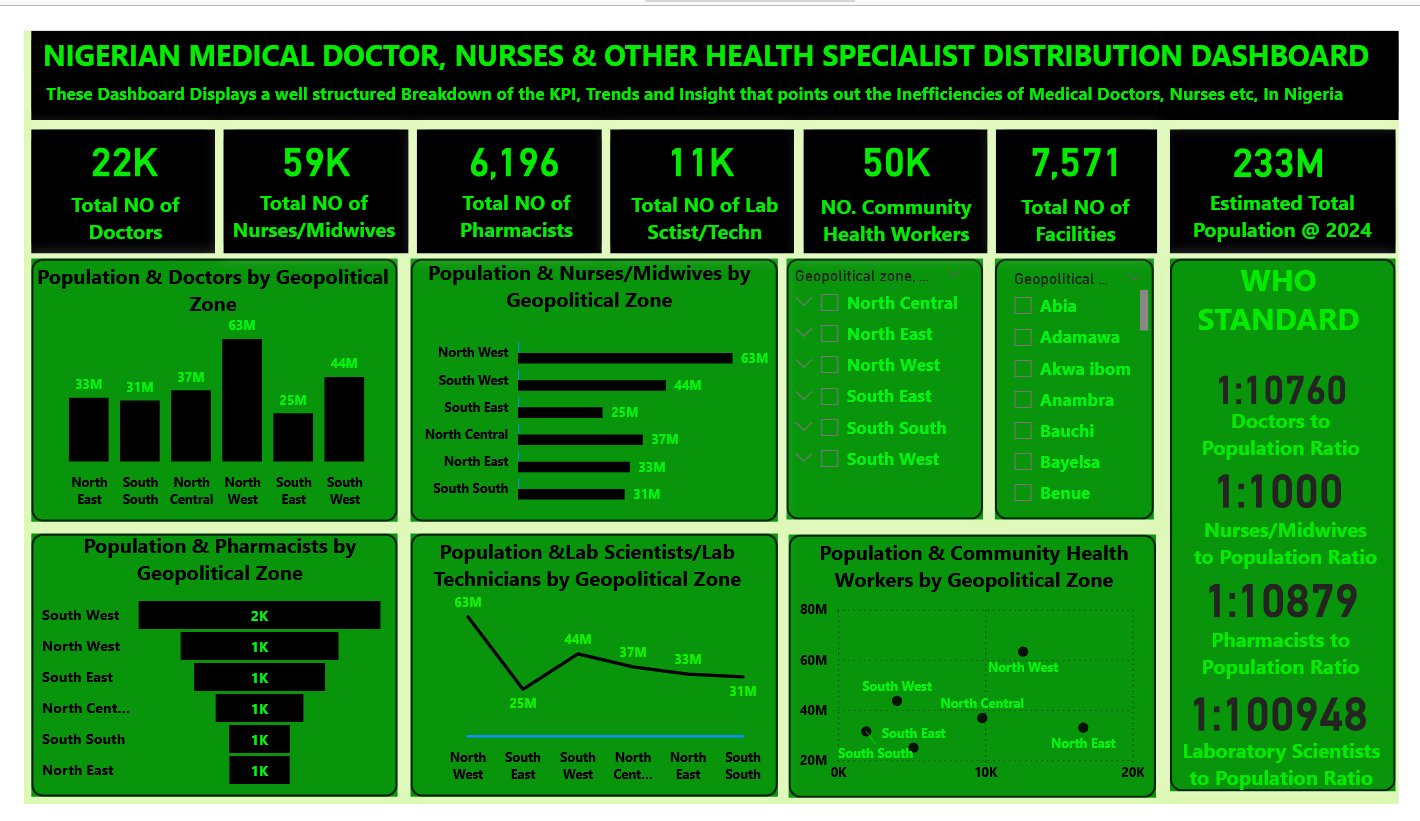

Layout of this report page (visuals, bound fields, positions):
{"tool":"powerbi","page":{"name":"Page 1","canvas":[1280,720],"ordinal":0},"visuals":[{"type":"shape","box":[710.3,211.8,182.5,242.7],"z":0},{"type":"shape","box":[1066.7,91.7,210,115],"z":1000},{"type":"shape","box":[6.7,0,1273.3,83.3],"z":2000},{"type":"shape","box":[6.7,91.7,171.7,115],"z":3000},{"type":"shape","box":[6.7,211.7,341.7,245],"z":4000},{"type":"shape","box":[6.7,468.3,341.7,245],"z":5000},{"type":"shape","box":[360,211.7,341.7,245],"z":6000},{"type":"shape","box":[712,469.2,342.1,244.4],"z":7000},{"type":"shape","box":[360,468.3,341.7,245],"z":8000},{"type":"shape","box":[904.2,211.8,148.3,242.7],"z":9000},{"type":"shape","box":[1066.7,211.7,210,496.7],"z":10000},{"type":"columnChart","fields":{"Category":["Cleaned, Formated, & Analyzed.Geopoliticalzone"],"Y":["Sum(Cleaned, Formated, & Analyzed.Doctors)","Sum(Cleaned, Formated, & Analyzed.Total Population @ 2024)"]},"box":[11.7,248.3,330,203.3],"z":11000},{"type":"clusteredBarChart","fields":{"Category":["Cleaned, Formated, & Analyzed.Geopoliticalzone"],"Y":["Sum(Cleaned, Formated, & Analyzed.Nurses/Midwives)","Sum(Cleaned, Formated, & Analyzed.Total Population @ 2024)"]},"box":[366.6,267.3,332.2,184.3],"z":12000},{"type":"funnel","fields":{"Category":["Cleaned, Formated, & Analyzed.Geopoliticalzone"],"Y":["Sum(Cleaned, Formated, & Analyzed.Pharmacists)"]},"box":[12.2,522.5,330.1,186.3],"z":13000},{"type":"lineChart","fields":{"Category":["Cleaned, Formated, & Analyzed.Geopoliticalzone"],"Y":["Sum(Cleaned, Formated, & Analyzed.Laboratory Scientists/ Lab Technicians)","Sum(Cleaned, Formated, & Analyzed.Total Population @ 2024)"]},"box":[365,501.7,333.3,206.7],"z":14000},{"type":"scatterChart","fields":{"Category":["Cleaned, Formated, & Analyzed.Geopoliticalzone"],"X":["Sum(Cleaned, Formated, & Analyzed.Community Health Workers)"],"Y":["Sum(Cleaned, Formated, & Analyzed.Total Population @ 2024)"]},"box":[716.8,524.6,330.7,184.1],"z":15000},{"type":"card","fields":{"Values":["Min(Cleaned, Formated, & Analyzed.Doctor to Population Ratio)"]},"box":[1084.9,302.8,170,56.7],"z":16000},{"type":"card","fields":{"Values":["Min(Cleaned, Formated, & Analyzed.Nurse to Population Ratio)"]},"box":[1073.5,398.3,187.8,51.8],"z":17000},{"type":"card","fields":{"Values":["Min(Cleaned, Formated, & Analyzed.Pharmacists to Population Ratio)"]},"box":[1071.9,500.3,197.5,51.8],"z":18000},{"type":"card","fields":{"Values":["Min(Cleaned, Formated, & Analyzed.Laboratory Scientists to Population Ratio)"]},"box":[1063.8,600.7,207.3,61.5],"z":19000},{"type":"card","fields":{"Values":["Sum(Cleaned, Formated, & Analyzed.Doctors)"]},"box":[21.7,90.6,143.3,56.7],"z":20000},{"type":"shape","box":[186.4,91.7,171.7,115],"z":21000},{"type":"shape","box":[366.1,91.7,171.7,115],"z":22000},{"type":"shape","box":[545.8,91.7,171.7,115],"z":23000},{"type":"shape","box":[725.6,91.7,171.7,115],"z":24000},{"type":"shape","box":[905,91.7,150,115],"z":25000},{"type":"card","fields":{"Values":["Sum(Cleaned, Formated, & Analyzed.Nurses/Midwives)"]},"box":[200,90.6,143.3,56.7],"z":26000},{"type":"card","fields":{"Values":["Sum(Cleaned, Formated, & Analyzed.Pharmacists)"]},"box":[379.6,91.2,153.1,55.4],"z":27000},{"type":"card","fields":{"Values":["Sum(Cleaned, Formated, & Analyzed.Laboratory Scientists/ Lab Technicians)"]},"box":[558.3,90.6,143.3,56.7],"z":28000},{"type":"card","fields":{"Values":["Sum(Cleaned, Formated, & Analyzed.Community Health Workers)"]},"box":[740,90.6,143.3,56.7],"z":29000},{"type":"card","fields":{"Values":["Sum(Cleaned, Formated, & Analyzed.Basic Healthcare Facilites)"]},"box":[908.3,90.6,143.3,56.7],"z":30000},{"type":"actionButton","box":[11.7,140,165,66.7],"z":31000},{"type":"actionButton","box":[188.4,137.7,164.1,66.8],"z":32000},{"type":"actionButton","box":[350.4,137.7,216.7,66.8],"z":33000},{"type":"actionButton","box":[534.7,139.7,198.5,66.8],"z":34000},{"type":"actionButton","box":[708.9,141.8,206.6,66.8],"z":35000},{"type":"actionButton","box":[897.2,141.8,164.1,66.8],"z":36000},{"type":"actionButton","box":[1088.1,341.7,163.5,66.4],"z":37000},{"type":"actionButton","box":[1084.7,441.9,179.7,67],"z":38000},{"type":"actionButton","box":[1088.1,545.7,163.5,66.4],"z":39000},{"type":"actionButton","box":[1071.9,649.3,197.5,64.8],"z":40000},{"type":"actionButton","box":[0,455.7,364.6,68.9],"z":41000},{"type":"actionButton","box":[342.3,461.8,364.6,68.9],"z":42000},{"type":"actionButton","box":[0,206.6,352.4,68.9],"z":43000},{"type":"actionButton","box":[344.3,202.5,364.6,68.9],"z":44000},{"type":"actionButton","box":[702.2,462.7,364.9,70.1],"z":45000},{"type":"card","fields":{"Values":["Sum(Cleaned, Formated, & Analyzed.Total Population @ 2024)"]},"box":[1081.5,91.1,172.2,56.7],"z":46000},{"type":"actionButton","box":[1078.4,142.5,186.2,59.9],"z":47000},{"type":"slicer","fields":{"Values":["Cleaned, Formated, & Analyzed.Geopoliticalzone","Cleaned, Formated, & Analyzed.State"]},"box":[704.8,215.4,179.9,225.9],"z":48000},{"type":"actionButton","box":[0,0,1269.5,41.8],"z":49000},{"type":"actionButton","box":[0,25.1,1248.6,64.8],"z":50000},{"type":"actionButton","box":[1083.3,202.4,170,92.3],"z":51000},{"type":"slicer","fields":{"Values":["Cleaned, Formated, & Analyzed.State"]},"box":[909.1,218.3,143.4,231.3],"z":51001}]}

Visuals, with their boxes in screenshot pixels (x1, y1, x2, y2), scaled from the page's 1280x720 canvas onto the 1420x821 screenshot:
shape: detection(788, 242, 990, 518)
shape: detection(1183, 105, 1416, 236)
shape: detection(7, 0, 1419, 95)
shape: detection(7, 105, 198, 236)
shape: detection(7, 241, 387, 521)
shape: detection(7, 534, 387, 813)
shape: detection(399, 241, 778, 521)
shape: detection(790, 535, 1169, 814)
shape: detection(399, 534, 778, 813)
shape: detection(1003, 242, 1168, 518)
shape: detection(1183, 241, 1416, 808)
columnChart - Cleaned, Formated, & Analyzed.Geopoliticalzone x Sum(Cleaned, Formated, & Analyzed.Doctors): detection(13, 283, 379, 515)
clusteredBarChart - Cleaned, Formated, & Analyzed.Geopoliticalzone x Sum(Cleaned, Formated, & Analyzed.Nurses/Midwives): detection(407, 305, 775, 515)
funnel - Cleaned, Formated, & Analyzed.Geopoliticalzone x Sum(Cleaned, Formated, & Analyzed.Pharmacists): detection(14, 596, 380, 808)
lineChart - Cleaned, Formated, & Analyzed.Geopoliticalzone x Sum(Cleaned, Formated, & Analyzed.Laboratory Scientists/ Lab Technicians): detection(405, 572, 775, 808)
scatterChart - Cleaned, Formated, & Analyzed.Geopoliticalzone x Sum(Cleaned, Formated, & Analyzed.Community Health Workers): detection(795, 598, 1162, 808)
card - Min(Cleaned, Formated, & Analyzed.Doctor to Population Ratio): detection(1204, 345, 1392, 410)
card - Min(Cleaned, Formated, & Analyzed.Nurse to Population Ratio): detection(1191, 454, 1399, 513)
card - Min(Cleaned, Formated, & Analyzed.Pharmacists to Population Ratio): detection(1189, 570, 1408, 630)
card - Min(Cleaned, Formated, & Analyzed.Laboratory Scientists to Population Ratio): detection(1180, 685, 1410, 755)
card - Sum(Cleaned, Formated, & Analyzed.Doctors): detection(24, 103, 183, 168)
shape: detection(207, 105, 397, 236)
shape: detection(406, 105, 597, 236)
shape: detection(605, 105, 796, 236)
shape: detection(805, 105, 995, 236)
shape: detection(1004, 105, 1170, 236)
card - Sum(Cleaned, Formated, & Analyzed.Nurses/Midwives): detection(222, 103, 381, 168)
card - Sum(Cleaned, Formated, & Analyzed.Pharmacists): detection(421, 104, 591, 167)
card - Sum(Cleaned, Formated, & Analyzed.Laboratory Scientists/ Lab Technicians): detection(619, 103, 778, 168)
card - Sum(Cleaned, Formated, & Analyzed.Community Health Workers): detection(821, 103, 980, 168)
card - Sum(Cleaned, Formated, & Analyzed.Basic Healthcare Facilites): detection(1008, 103, 1167, 168)
actionButton: detection(13, 160, 196, 236)
actionButton: detection(209, 157, 391, 233)
actionButton: detection(389, 157, 629, 233)
actionButton: detection(593, 159, 813, 235)
actionButton: detection(786, 162, 1016, 238)
actionButton: detection(995, 162, 1177, 238)
actionButton: detection(1207, 390, 1388, 465)
actionButton: detection(1203, 504, 1403, 580)
actionButton: detection(1207, 622, 1388, 698)
actionButton: detection(1189, 740, 1408, 814)
actionButton: detection(0, 520, 404, 598)
actionButton: detection(380, 527, 784, 605)
actionButton: detection(0, 236, 391, 314)
actionButton: detection(382, 231, 786, 309)
actionButton: detection(779, 528, 1184, 608)
card - Sum(Cleaned, Formated, & Analyzed.Total Population @ 2024): detection(1200, 104, 1391, 169)
actionButton: detection(1196, 162, 1403, 231)
slicer - Cleaned, Formated, & Analyzed.Geopoliticalzone x Cleaned, Formated, & Analyzed.State: detection(782, 246, 981, 503)
actionButton: detection(0, 0, 1408, 48)
actionButton: detection(0, 29, 1385, 103)
actionButton: detection(1202, 231, 1390, 336)
slicer - Cleaned, Formated, & Analyzed.State: detection(1009, 249, 1168, 513)
